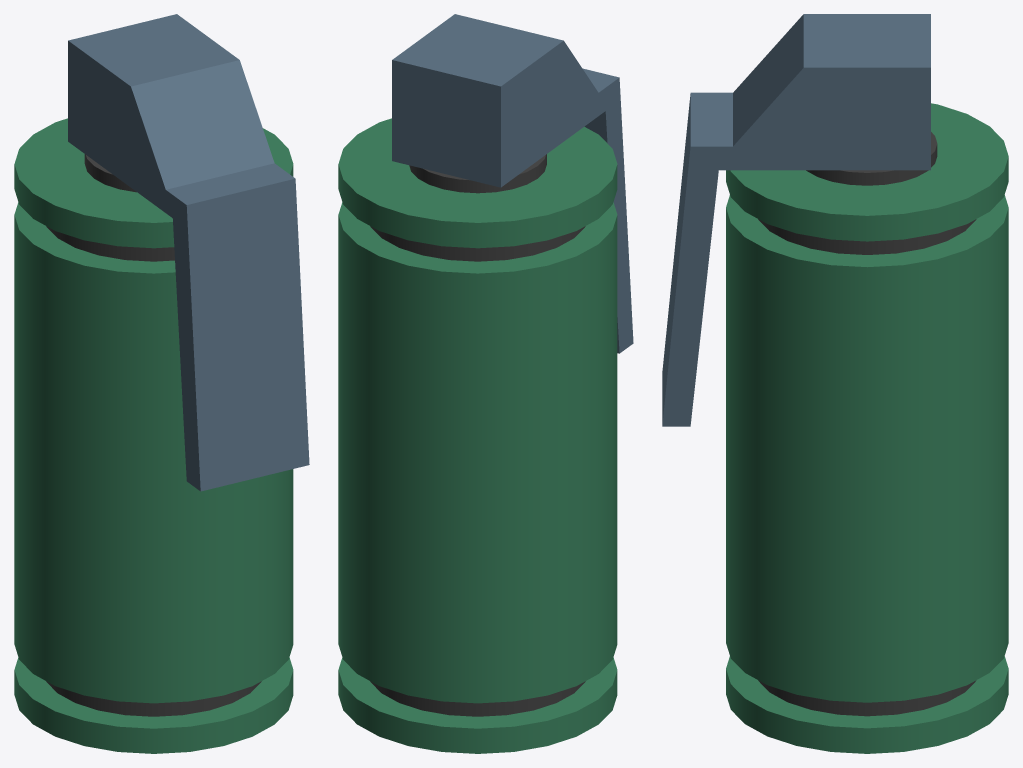
File: grenadeSmoke.dae
3 renders of one model, left to right at view 1: azimuth 30°, elevation 25°; view 2: azimuth 150°, elevation 25°; view 3: azimuth 270°, elevation 25°, orthographic.
Visible parts, largest first — view 1: grenadeSmoke, grip; view 2: grenadeSmoke, grip; view 3: grenadeSmoke, grip.
Boxes of the visible parts, <box> form: grenadeSmoke: <box>14,118,293,753</box>; grip: <box>68,14,309,491</box>; grenadeSmoke: <box>338,118,617,753</box>; grip: <box>392,14,633,353</box>; grenadeSmoke: <box>726,103,1008,753</box>; grip: <box>662,14,930,426</box>.
Bounding box in the file's own units: 0.0766 × 0.1952 × 0.0938.
